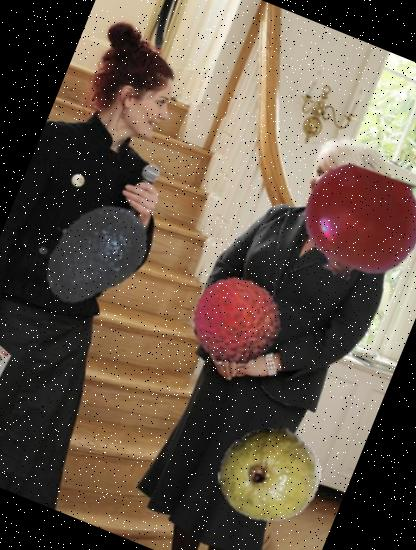Avocado: (18, 179, 168, 329)
Guava: (202, 408, 336, 542)
Lychee: (177, 261, 297, 381)
Redcurrant: (284, 150, 416, 302)
